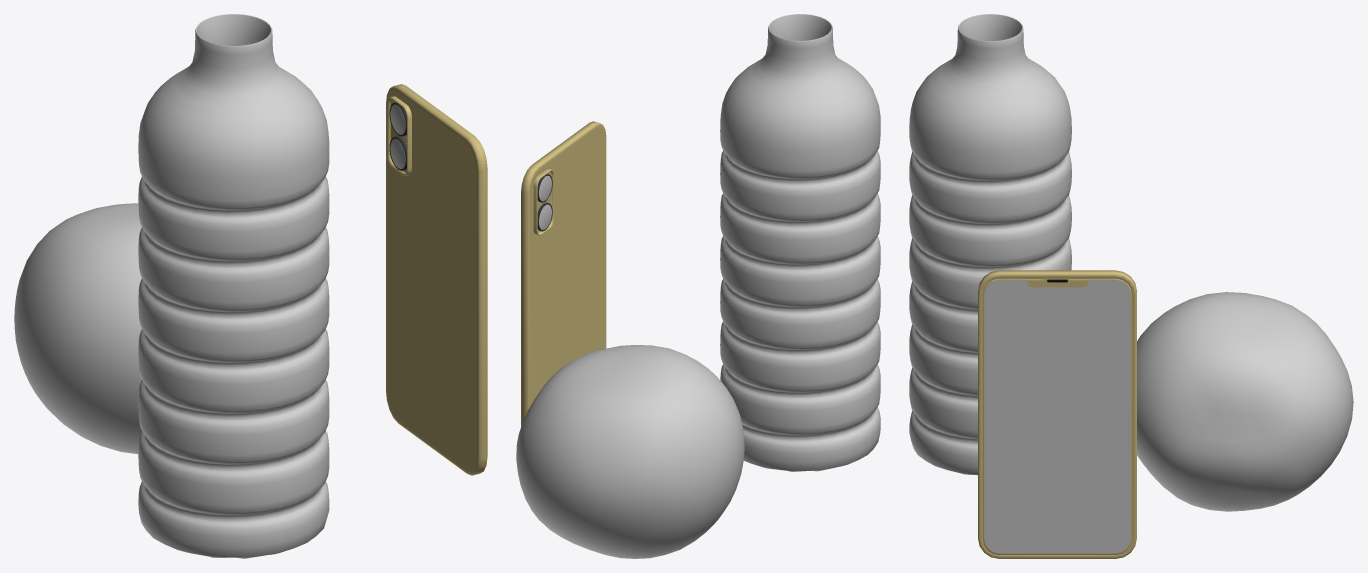
File: Props_lvl4_textured.fbx
3 renders of one model, left to right at view 1: azimuth 30°, elevation 25°; view 2: azimuth 150°, elevation 25°; view 3: azimuth 270°, elevation 25°, orthographic. The views are drawn at different scales.
Parts seen in each view (by area): view 1: WaterBottle, SmartPhone_Screen (×2), Orange; view 2: WaterBottle, Orange, SmartPhone_Screen (×2); view 3: WaterBottle, SmartPhone_Screen (×2), Orange.
Part boxes in pixels (x1,y1,x2,y2): WaterBottle: (138, 14, 329, 558); SmartPhone_Screen (×2): (386, 84, 487, 475); Orange: (14, 203, 141, 454); WaterBottle: (720, 14, 880, 471); Orange: (516, 345, 744, 558); SmartPhone_Screen (×2): (521, 121, 606, 426); WaterBottle: (909, 14, 1071, 475); SmartPhone_Screen (×2): (978, 270, 1136, 558); Orange: (1137, 292, 1353, 511).
Bounding box in the file's own units: 24.27 × 37.13 × 33.27.
